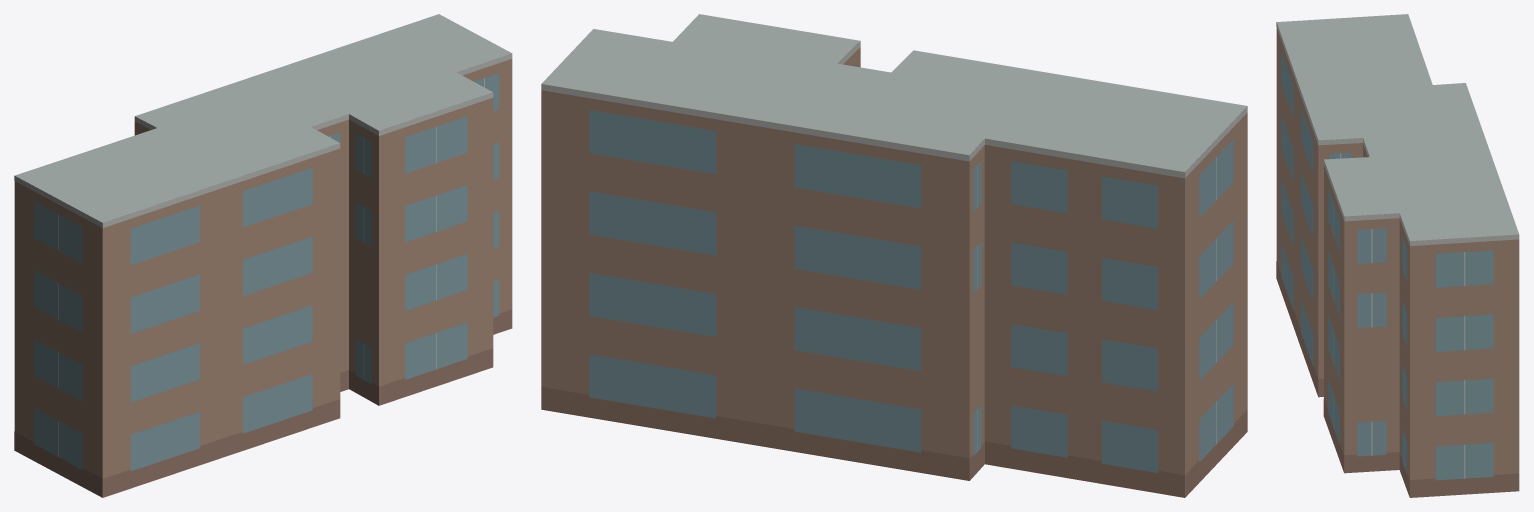
Rendered from survey-upis-32988817.glb.
The picture shows the model from 3 angles, left to right: view 1: azimuth 30°, elevation 25°; view 2: azimuth 150°, elevation 25°; view 3: azimuth 270°, elevation 25°; orthographic projection. The views are drawn at different scales.
Visible parts, largest first — view 1: survey-upis-32988817.tmp; view 2: survey-upis-32988817.tmp; view 3: survey-upis-32988817.tmp.
Boxes of the visible parts, <box> form: survey-upis-32988817.tmp: <box>14,14,512,497</box>; survey-upis-32988817.tmp: <box>541,14,1247,497</box>; survey-upis-32988817.tmp: <box>1276,14,1519,497</box>.
Bounding box in the file's own units: 24.15 × 12.72 × 10.91.
